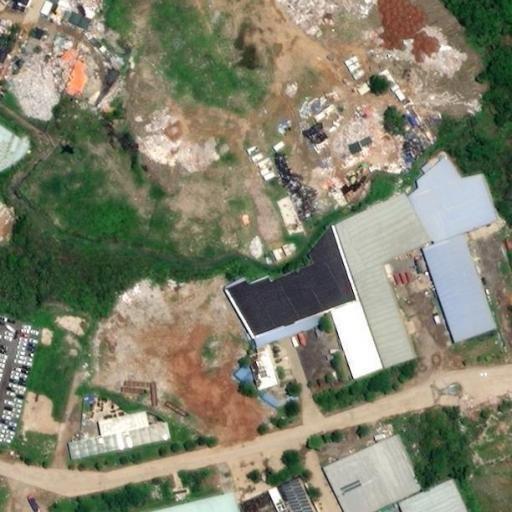building: (241, 232, 376, 344), (349, 199, 452, 284), (439, 242, 510, 350), (338, 442, 438, 512), (367, 270, 431, 374), (424, 181, 512, 250), (346, 307, 400, 386), (0, 120, 51, 185), (86, 431, 180, 464), (422, 161, 478, 204), (132, 492, 236, 512), (415, 487, 480, 512), (269, 191, 303, 236), (248, 345, 278, 391), (291, 481, 330, 512), (116, 419, 160, 441), (261, 405, 285, 428), (250, 490, 276, 510), (0, 207, 12, 242), (283, 492, 301, 512)
